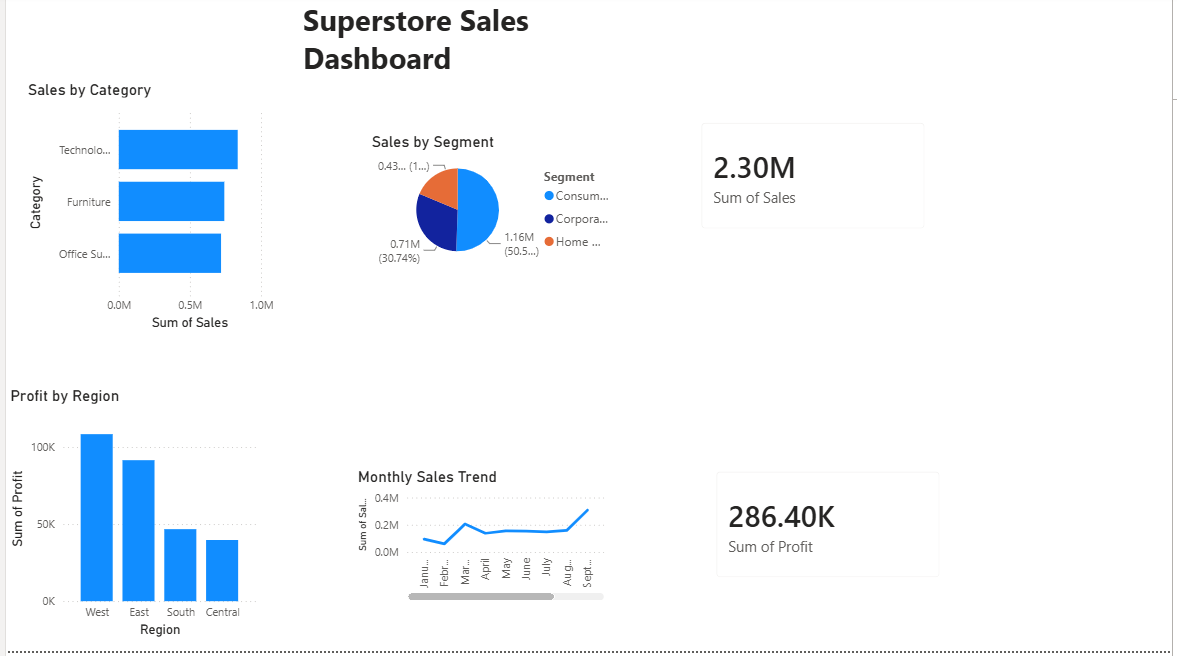

The page's visual inventory and layout, read from the dashboard file:
{"tool":"powerbi","page":{"name":"Page 1","canvas":[1280,720],"ordinal":0},"visuals":[{"type":"clusteredBarChart","title":"Sales by Category","fields":{"Category":["Sample - Superstore.Category"],"Y":["Sum(Sample - Superstore.Sales)"]},"box":[19.2,93.3,279.9,279.9],"z":0},{"type":"clusteredColumnChart","title":"Profit by Region","fields":{"Category":["Sample - Superstore.Region"],"Y":["Sum(Sample - Superstore.Profit)"]},"box":[0,429.5,279.9,279.9],"z":1000},{"type":"pieChart","title":"Sales by Segment","fields":{"Category":["Sample - Superstore.Segment"],"Y":["Sum(Sample - Superstore.Sales)"]},"box":[396.6,150.9,279.9,150.9],"z":2000},{"type":"lineChart","title":"  Monthly Sales Trend","fields":{"Y":["Sum(Sample - Superstore.Sales)"],"Category":["Sample - Superstore.Order Date.Variation.Date Hierarchy.Month"]},"box":[381.5,518.7,279.9,150.9],"z":2001},{"type":"cardVisual","fields":{"Data":["Sum(Sample - Superstore.Sales)"]},"box":[746.5,123.5,279.9,150.9],"z":2002},{"type":"cardVisual","fields":{"Data":["Sum(Sample - Superstore.Profit)"]},"box":[763,506.3,279.9,150.9],"z":2003},{"type":"textbox","box":[321.1,0,279.9,150.9],"z":2007}]}

Visuals, with their boxes in screenshot pixels (x1, y1, x2, y2), scaled from the page's 1280x720 canvas onto the 1177x656 screenshot:
"Sales by Category" clusteredBarChart: [18, 85, 275, 340]
"Profit by Region" clusteredColumnChart: [0, 391, 257, 646]
"Sales by Segment" pieChart: [365, 137, 622, 275]
"  Monthly Sales Trend" lineChart: [351, 473, 608, 610]
cardVisual - Sum(Sample - Superstore.Sales): [686, 113, 944, 250]
cardVisual - Sum(Sample - Superstore.Profit): [702, 461, 959, 599]
textbox: [295, 0, 553, 137]
